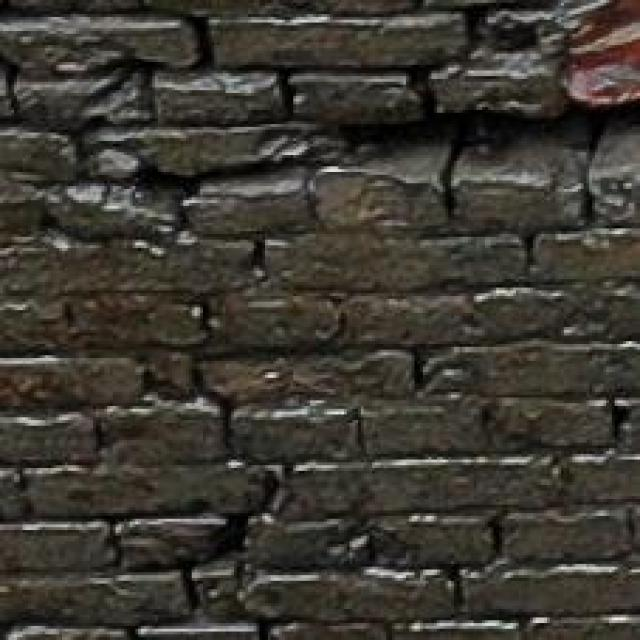Crack: (0, 0, 640, 317)
